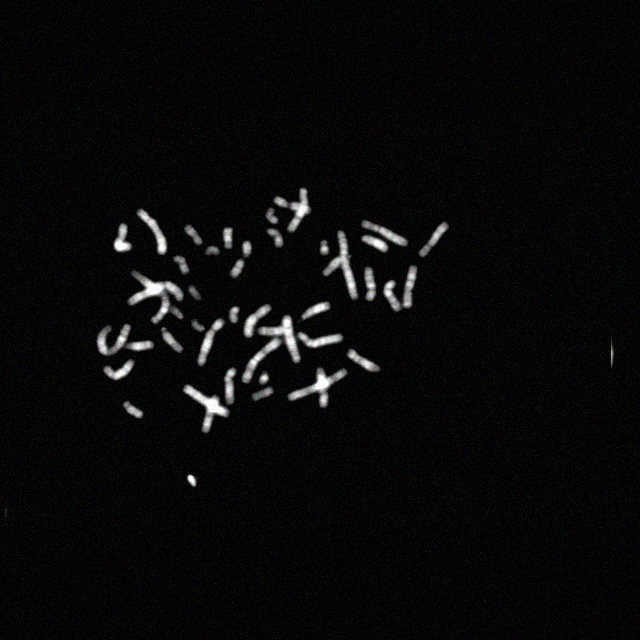chromosome: (131, 270, 169, 324), (288, 368, 348, 402), (242, 338, 282, 382), (183, 384, 229, 418), (337, 230, 358, 300), (137, 208, 167, 254), (128, 282, 184, 306), (198, 318, 225, 367), (360, 220, 408, 246), (418, 222, 449, 258), (98, 323, 130, 355), (244, 304, 270, 338), (288, 188, 308, 232), (282, 315, 300, 363), (230, 240, 252, 278), (298, 332, 344, 348), (348, 349, 380, 371), (202, 395, 220, 433), (402, 266, 418, 308), (274, 196, 310, 214), (382, 280, 402, 312), (104, 360, 134, 380), (161, 327, 183, 353), (323, 256, 351, 276), (302, 302, 331, 320), (114, 224, 132, 252), (316, 368, 328, 408), (362, 235, 388, 252), (224, 368, 236, 404), (364, 267, 376, 301), (184, 224, 202, 246), (123, 400, 143, 418), (258, 326, 292, 336), (267, 228, 283, 248), (162, 306, 184, 320), (125, 341, 154, 351), (173, 256, 189, 274), (252, 388, 274, 400), (188, 286, 202, 300), (266, 208, 278, 224), (224, 227, 232, 249), (230, 306, 240, 322), (192, 320, 204, 332), (205, 246, 219, 256), (259, 370, 269, 384), (320, 241, 328, 255), (188, 474, 196, 488)
